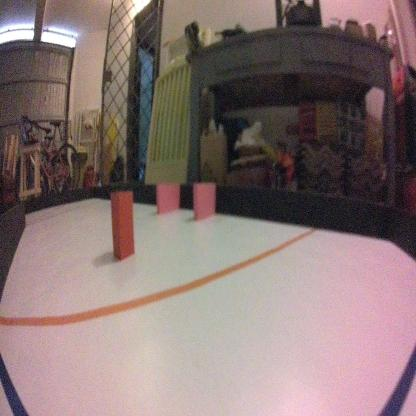magenta: (192, 177, 215, 226), (155, 180, 180, 214)
red: (108, 186, 136, 266)
